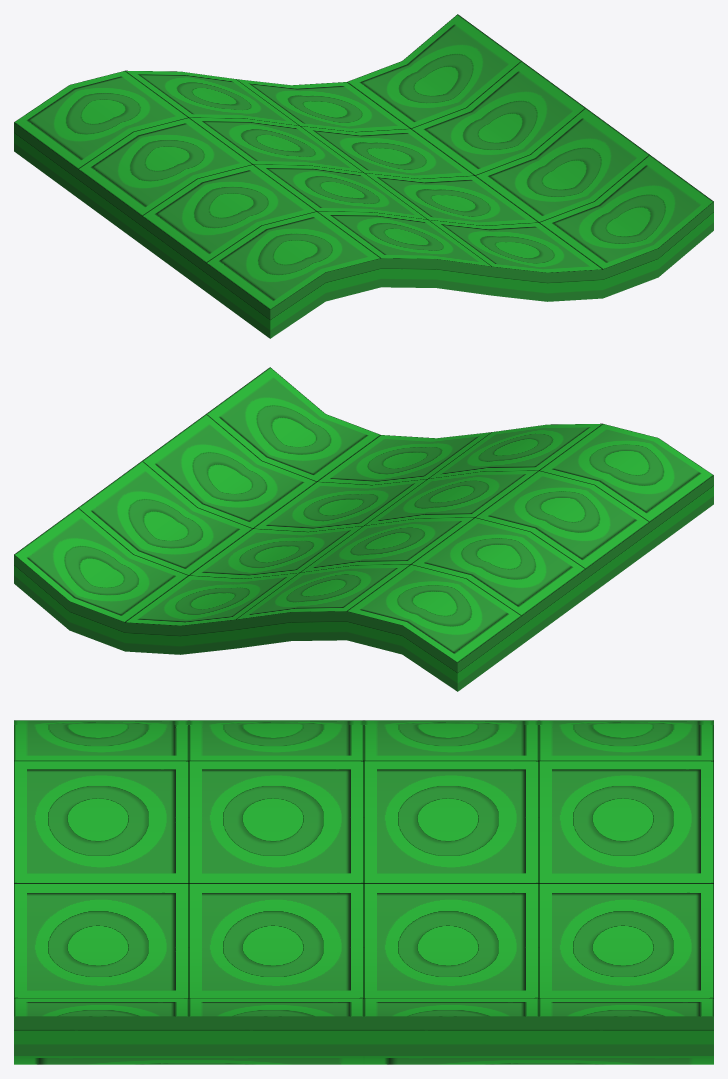
The model's file is CurvedTile.fbx.
The picture shows the model from 3 angles, top to bottom: view 1: azimuth 30°, elevation 25°; view 2: azimuth 150°, elevation 25°; view 3: azimuth 270°, elevation 25°; orthographic projection. The views are drawn at different scales.
Parts seen in each view (by area): view 1: curvedTile; view 2: curvedTile; view 3: curvedTile.
Part boxes in pixels (bbox=[...]): curvedTile: bbox=[14, 14, 713, 338]; curvedTile: bbox=[14, 367, 713, 691]; curvedTile: bbox=[14, 720, 713, 1064].
Bounding box in the file's own units: 4 × 0.8125 × 4.
Materials: 1 (1 with a texture image).
